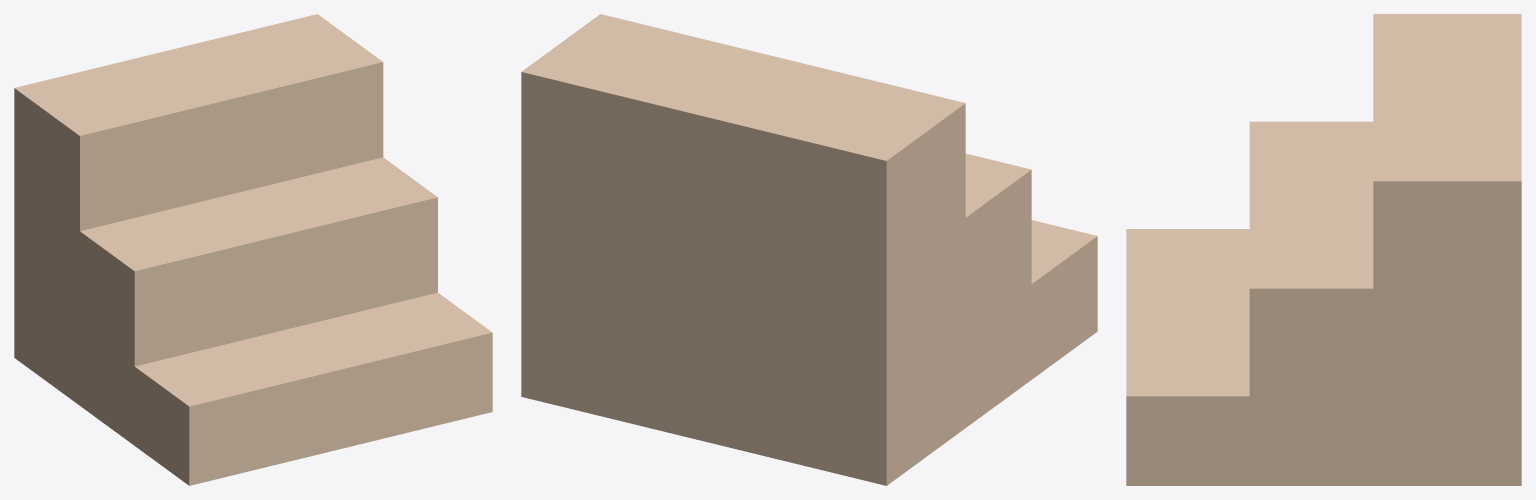
The model's file is stairs.glb.
3 views of the same model, side by side, from view 1: azimuth 30°, elevation 25°; view 2: azimuth 150°, elevation 25°; view 3: azimuth 270°, elevation 25° (orthographic). The views are drawn at different scales.
Parts seen in each view (by area): view 1: step2, step1, step0; view 2: step2, step1, step0; view 3: step2, step1, step0.
Boxes of the visible parts, x1,y1,x2,y2 form: step2: [14, 14, 383, 397]; step1: [69, 157, 437, 445]; step0: [124, 292, 492, 485]; step2: [521, 14, 965, 485]; step1: [965, 153, 1031, 427]; step0: [1018, 220, 1097, 388]; step2: [1373, 14, 1521, 485]; step1: [1249, 121, 1398, 485]; step0: [1126, 229, 1274, 485].
Bounding box in the file's own units: 0.8 × 0.68 × 0.8.
